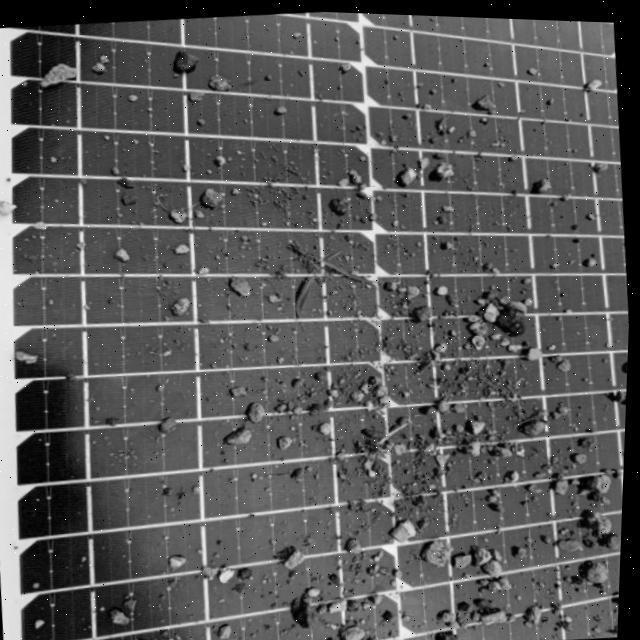Anomaly Solar Panel: (0, 0, 640, 640)
Surface Contaminant: (0, 9, 631, 640)
